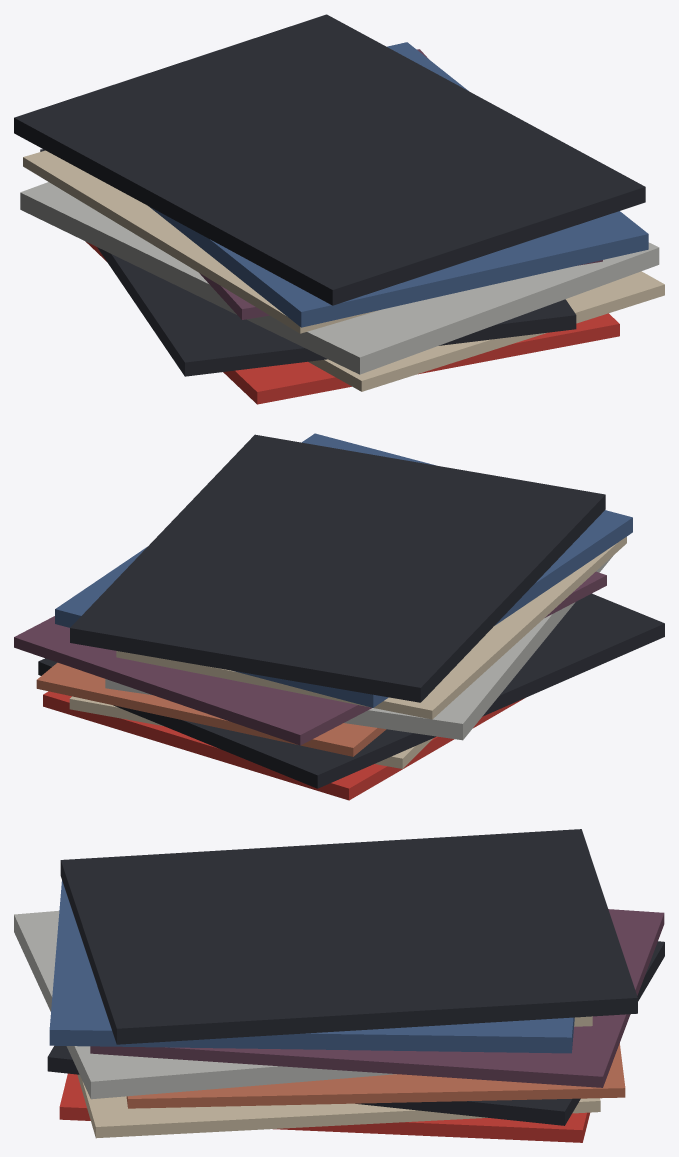
File: FN_Stack_Magazine.obj
3 views of the same model, one above another, from view 1: azimuth 30°, elevation 25°; view 2: azimuth 150°, elevation 25°; view 3: azimuth 270°, elevation 25° (orthographic). The views are drawn at different scales.
Parts seen in each view (by area): view 1: FN_Stack_Magazine; view 2: FN_Stack_Magazine; view 3: FN_Stack_Magazine.
Boxes of the visible parts, x1,y1,x2,y2 form: FN_Stack_Magazine: (14,14,664,404); FN_Stack_Magazine: (14,433,664,800); FN_Stack_Magazine: (14,829,664,1142).
Bounding box in the file's own units: 0.307 × 0.074 × 0.3712.
Materials: 1 (1 with a texture image).
